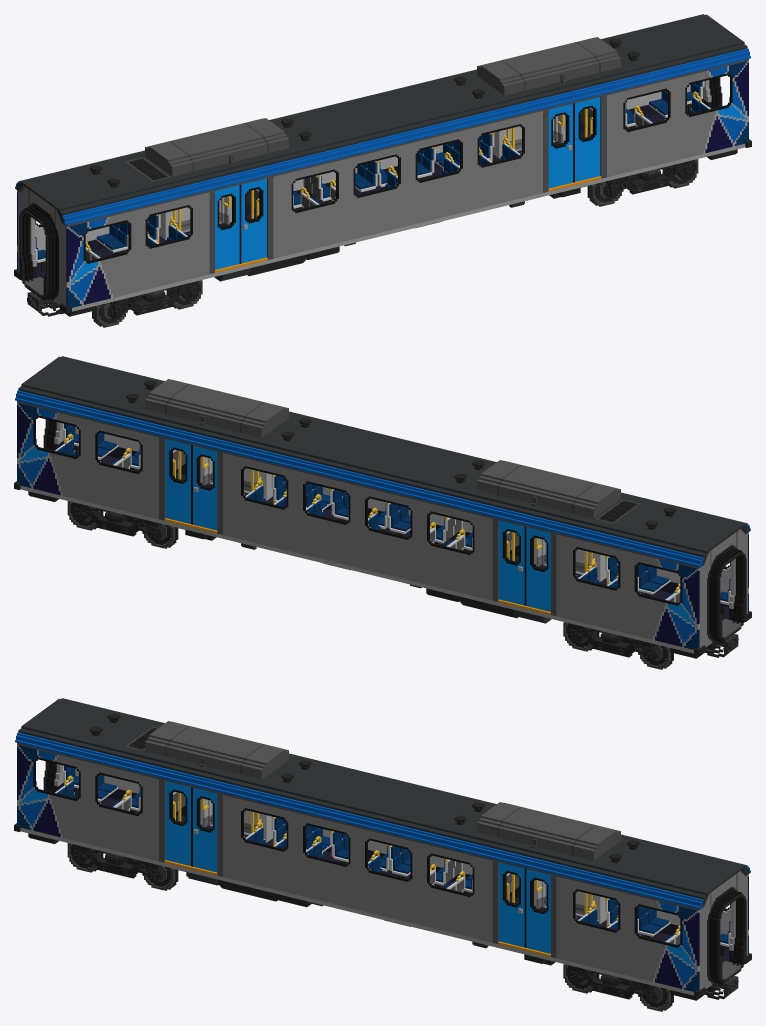
Rendered from siemensnexaswagon.obj.
3 views of the same model, one above another, from view 1: azimuth 30°, elevation 25°; view 2: azimuth 150°, elevation 25°; view 3: azimuth 330°, elevation 25° (orthographic).
Visible parts, largest first — view 1: FRAME, BOGEY_FRONT, BOGEY_REAR, BOGEY_REAR_WHEEL_1; view 2: FRAME, BOGEY_FRONT, BOGEY_REAR, BOGEY_REAR_WHEEL_1; view 3: FRAME, BOGEY_REAR, BOGEY_FRONT, BOGEY_FRONT_WHEEL_2.
Part boxes in pixels (x1,y1,x2,y2): FRAME: (14, 14, 751, 316); BOGEY_FRONT: (108, 281, 196, 319); BOGEY_REAR: (604, 160, 692, 198); BOGEY_REAR_WHEEL_1: (581, 181, 623, 206); FRAME: (14, 356, 751, 658); BOGEY_FRONT: (569, 623, 657, 661); BOGEY_REAR: (73, 502, 161, 540); BOGEY_REAR_WHEEL_1: (142, 523, 184, 548); FRAME: (14, 698, 751, 1000); BOGEY_REAR: (569, 965, 657, 1003); BOGEY_FRONT: (73, 844, 161, 882); BOGEY_FRONT_WHEEL_2: (142, 865, 185, 890).
Size of the model in its own units: 24.12 by 4.88 by 3.12.
Materials: 1 (1 with a texture image).
